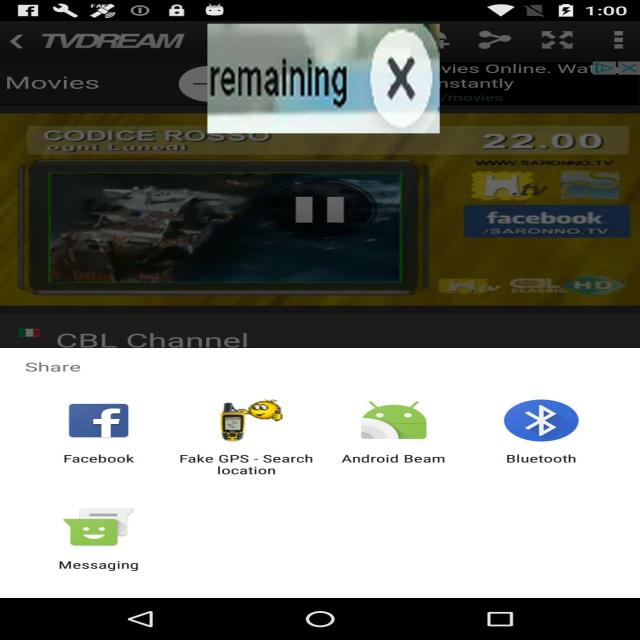misdirection: (207, 24, 440, 133)
